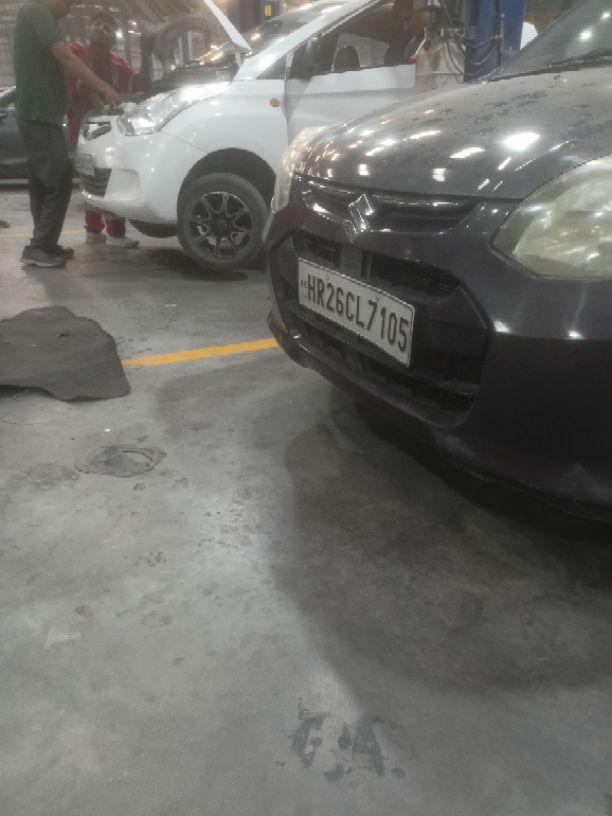license_plate: (294, 256, 415, 369)
